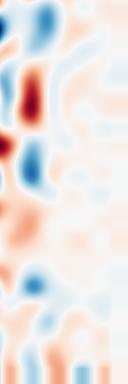filament: (15, 61, 52, 137)
